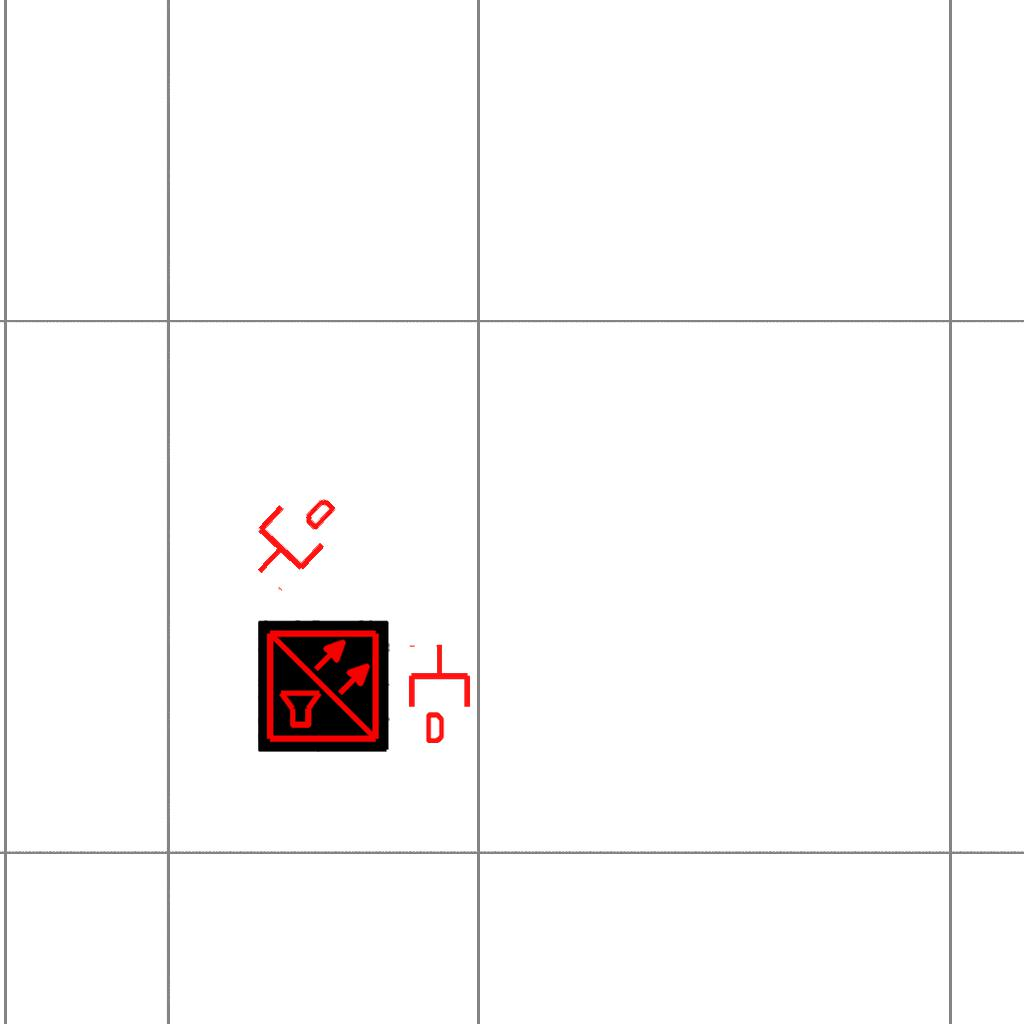Datenanschluss_einfach: (233, 475, 352, 597), (405, 643, 474, 743)
OKW_Multisensormelder_(Kombination_optischer_Rauch-Kahlenmonoxid_Waerme-Melder): (258, 620, 390, 752)
